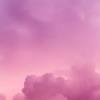sky: (1, 2, 98, 100)
